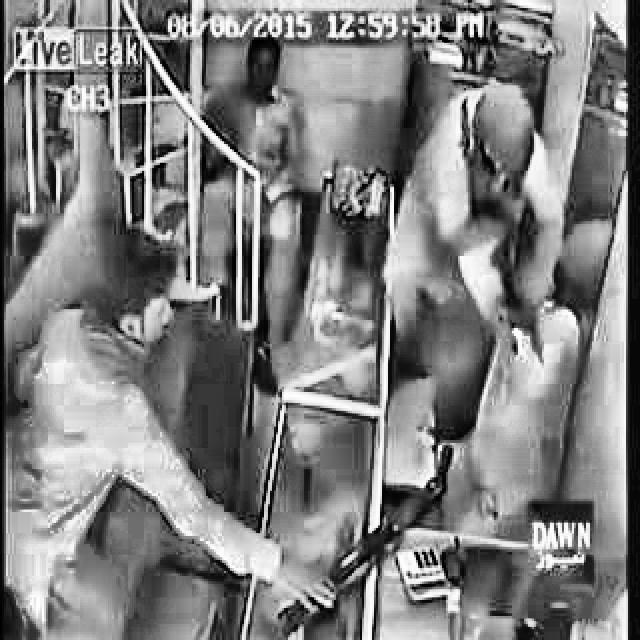robbery: (45, 242, 455, 635), (379, 81, 583, 536)
